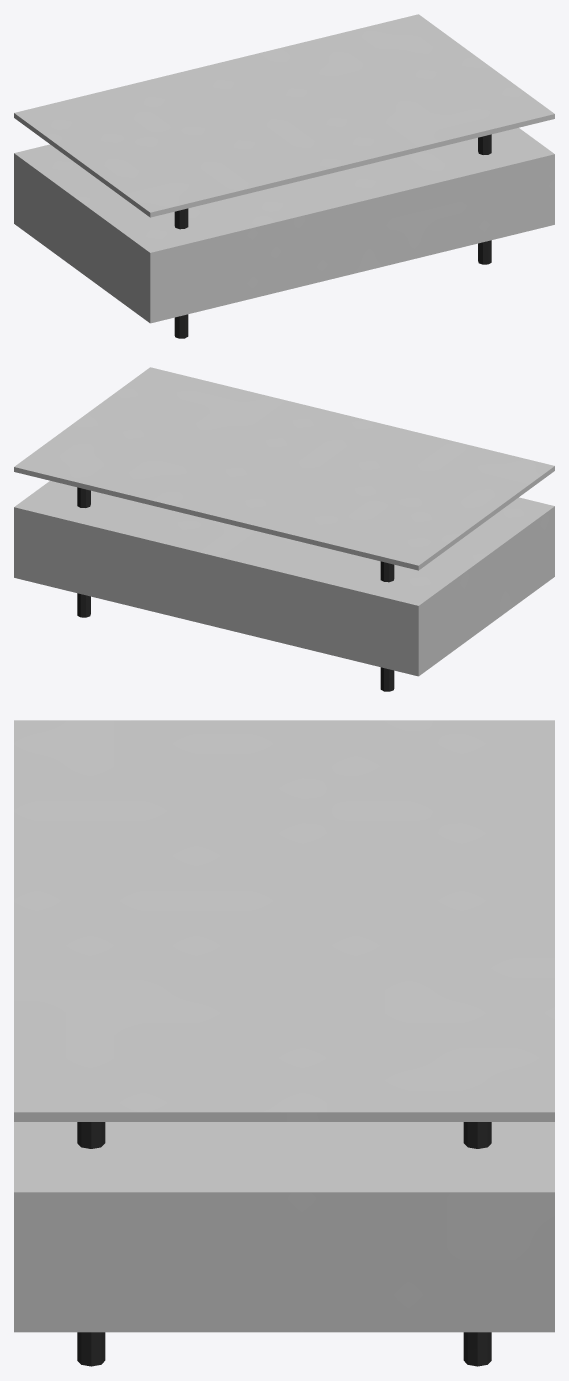
The model's file is Table_06_02.fbx.
3 views of the same model, one above another, from view 1: azimuth 30°, elevation 25°; view 2: azimuth 150°, elevation 25°; view 3: azimuth 270°, elevation 25° (orthographic). The views are drawn at different scales.
Parts seen in each view (by area): view 1: Table_06_02; view 2: Table_06_02; view 3: Table_06_02.
Part boxes in pixels (x1,y1,x2,y2): Table_06_02: [14, 14, 554, 338]; Table_06_02: [14, 367, 554, 691]; Table_06_02: [14, 720, 554, 1366].
Size of the model in its own units: 1.77 by 0.6259 by 1.03.
